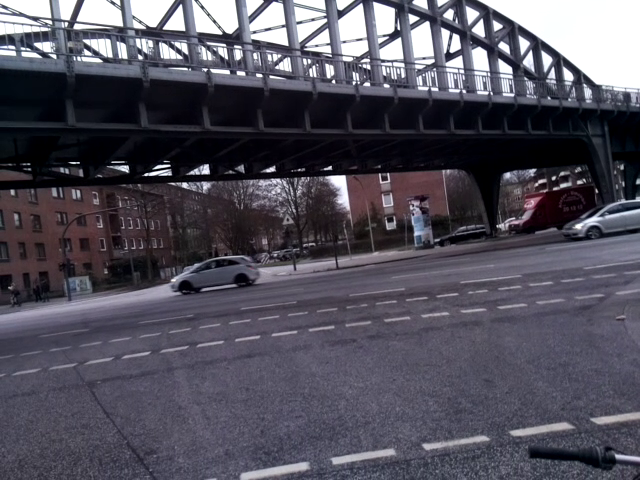car: (168, 251, 264, 301)
